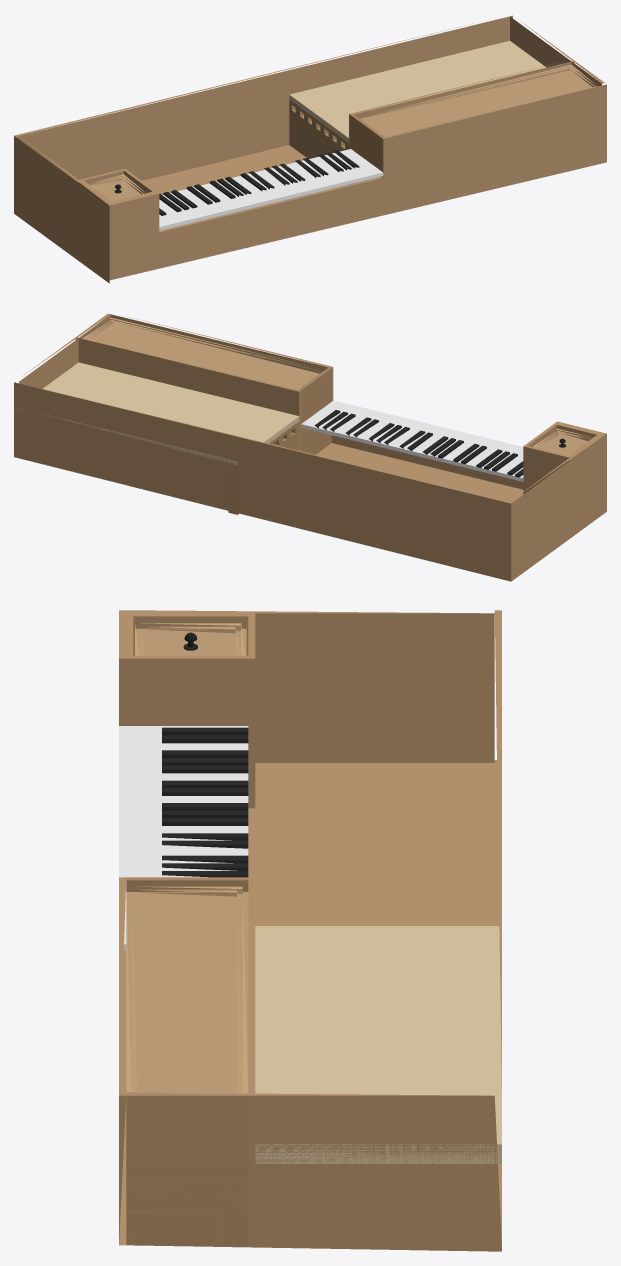
Rendered from keyboard.glb.
3 renders of one model, top to bottom at view 1: azimuth 30°, elevation 25°; view 2: azimuth 150°, elevation 25°; view 3: azimuth 270°, elevation 25°, orthographic. The views are drawn at different scales.
Size of the model in its own units: 1.44 by 0.2204 by 0.4812.
